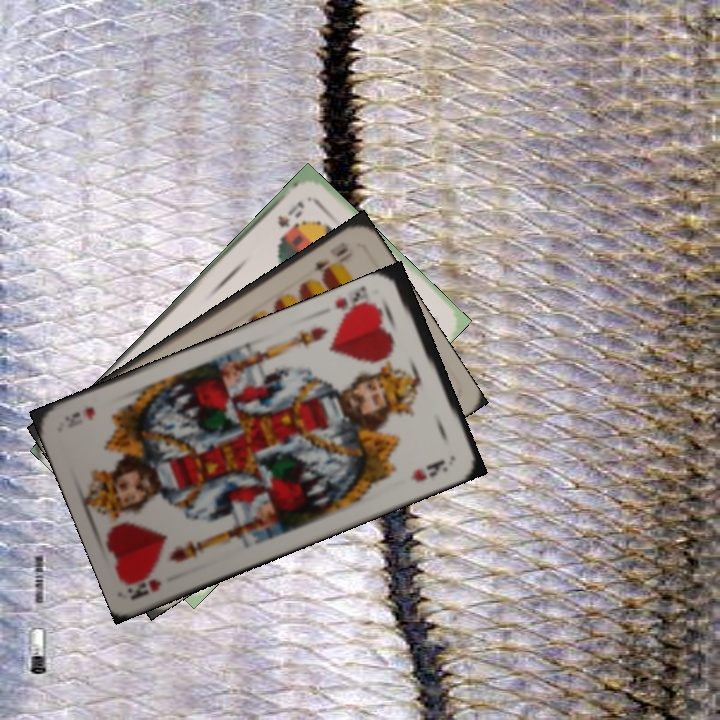E10: (310, 237, 352, 277)
HK: (331, 283, 379, 322), (130, 575, 164, 602)
SO: (273, 197, 307, 230)
